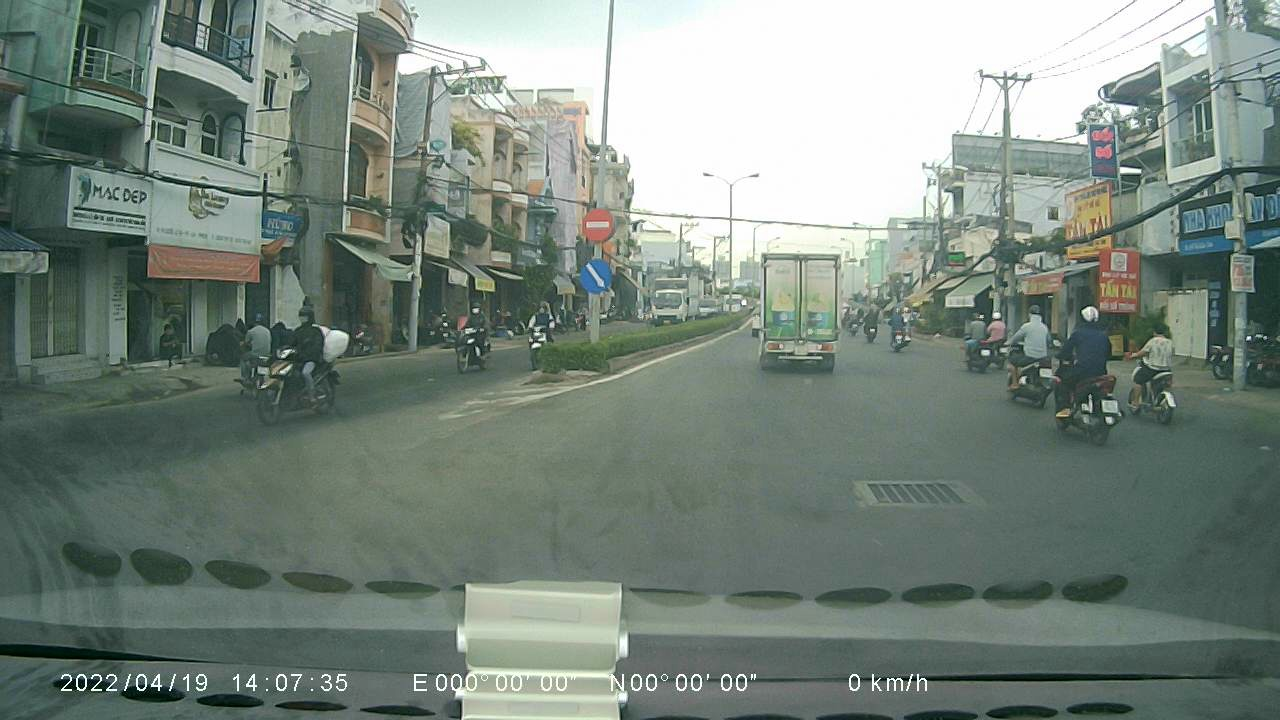Cam di nguoc chieu: (580, 203, 616, 244)
Huong di phai re phai: (580, 258, 612, 297)
